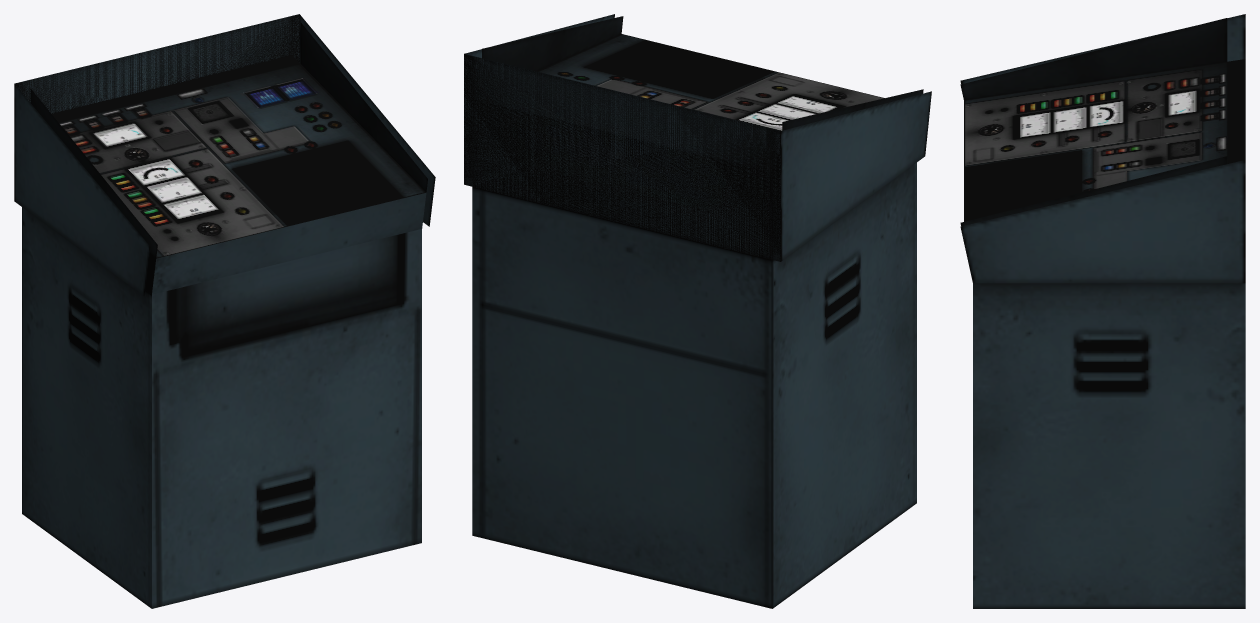
File: ctl_engine_control_lod3.glb
3 views of the same model, side by side, from view 1: azimuth 30°, elevation 25°; view 2: azimuth 150°, elevation 25°; view 3: azimuth 270°, elevation 25° (orthographic). The views are drawn at different scales.
Visible parts, largest first — view 1: surf0; view 2: surf0; view 3: surf0.
Boxes of the visible parts, x1,y1,x2,y2 form: surf0: (14, 14, 435, 608); surf0: (464, 14, 931, 608); surf0: (960, 14, 1245, 608).
Size of the model in its own units: 38 by 55 by 31.38.
